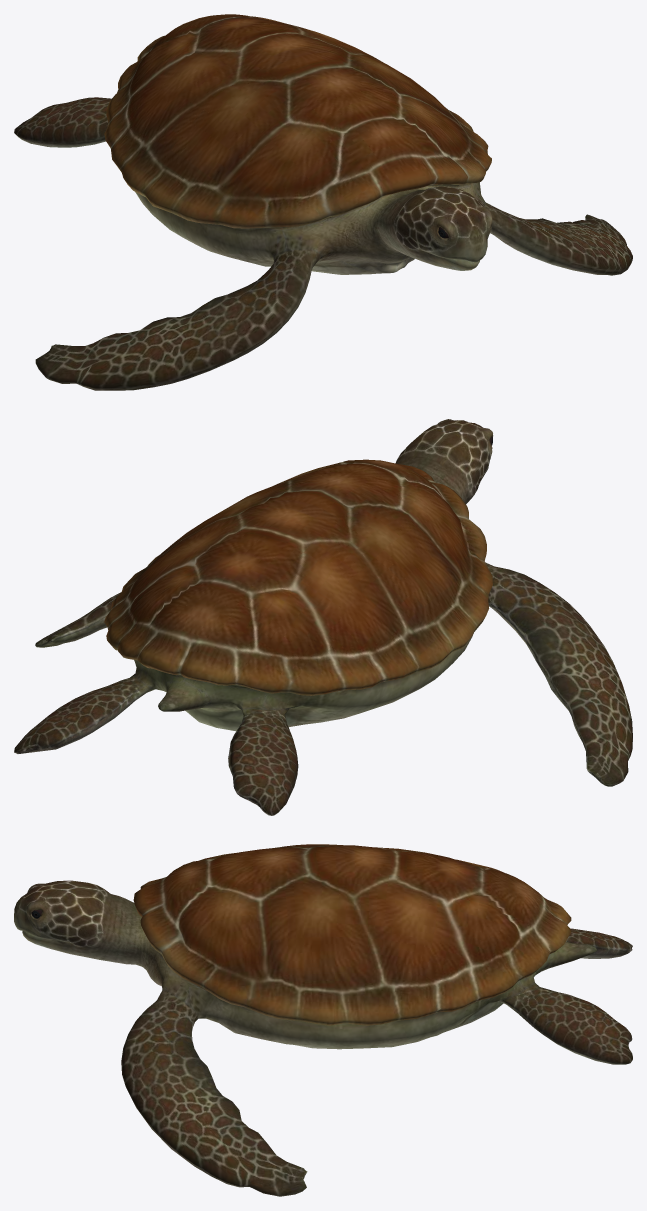
File: sea_turtle.glb
3 renders of one model, top to bottom at view 1: azimuth 30°, elevation 25°; view 2: azimuth 150°, elevation 25°; view 3: azimuth 270°, elevation 25°, orthographic. The views are drawn at different scales.
Parts seen in each view (by area): view 1: sea_turtle; view 2: sea_turtle; view 3: sea_turtle.
Part boxes in pixels (x1=…): sea_turtle: x1=14, y1=14, x2=632, y2=390; sea_turtle: x1=14, y1=419, x2=632, y2=815; sea_turtle: x1=14, y1=844, x2=632, y2=1196.
Bounding box in the file's own units: 0.9876 × 0.3822 × 1.
Materials: 2 (2 with a texture image).
